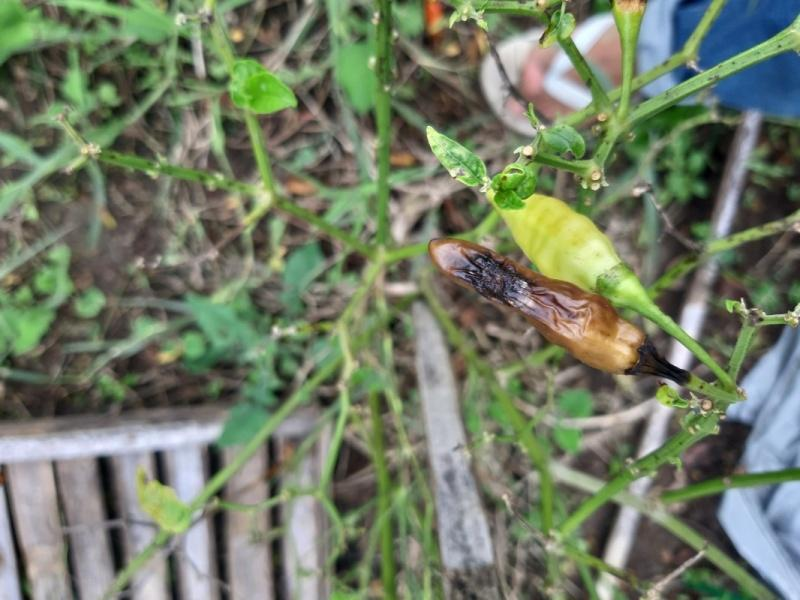antraknosa: (428, 238, 647, 376)
cabai_normal: (483, 181, 623, 294)
